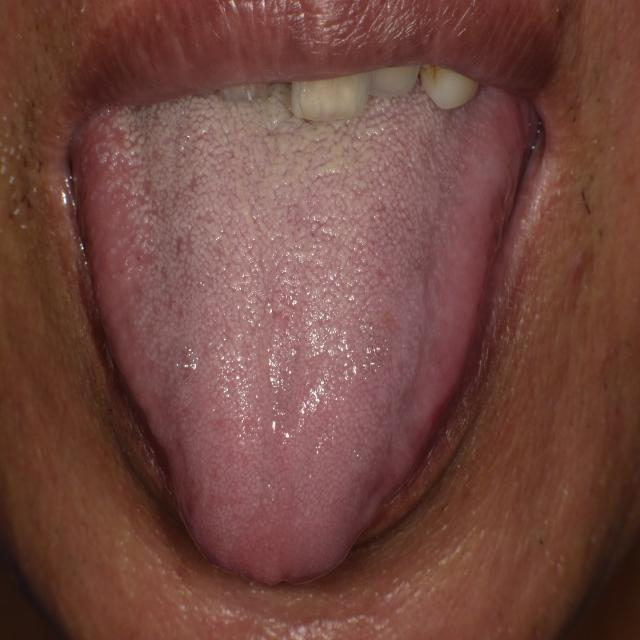huangtaishe: (76, 83, 538, 580)
